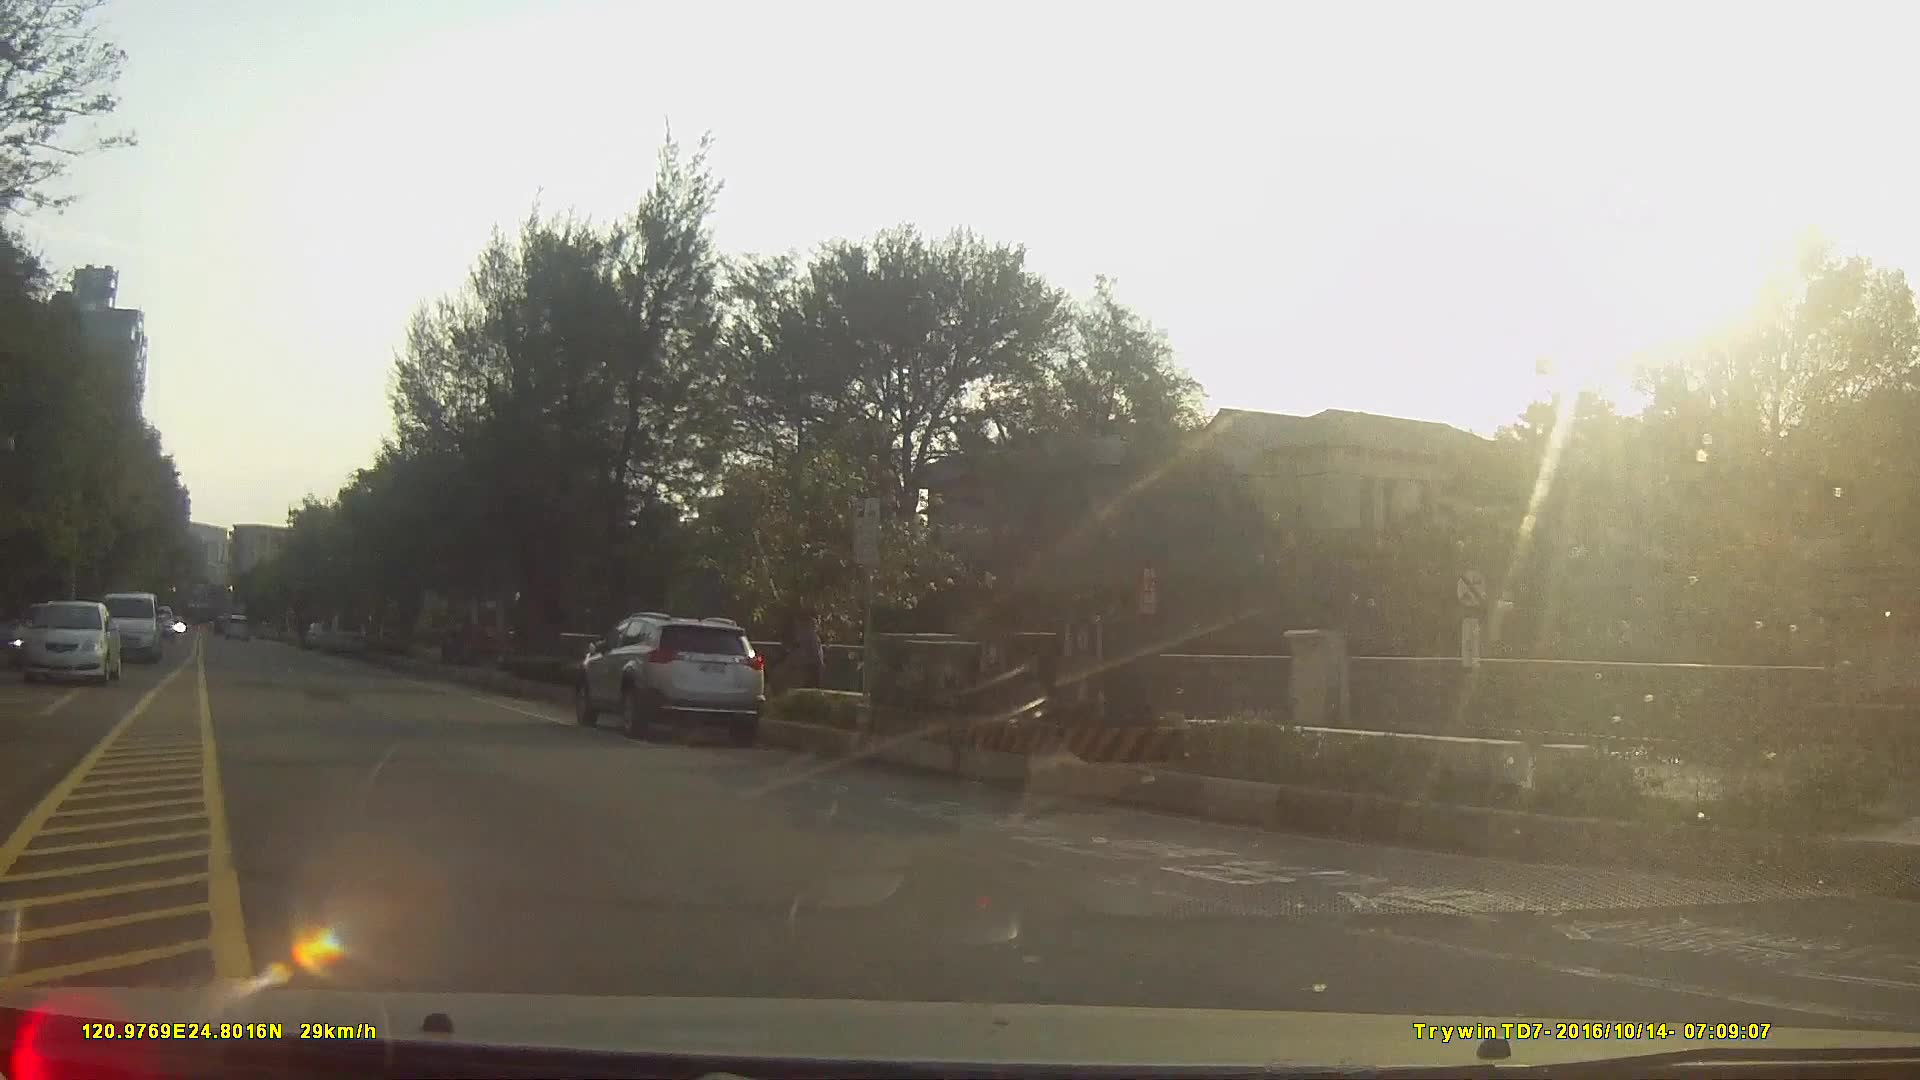vehicle: (574, 611, 769, 744), (17, 597, 119, 683), (100, 589, 160, 659), (316, 611, 365, 655)
